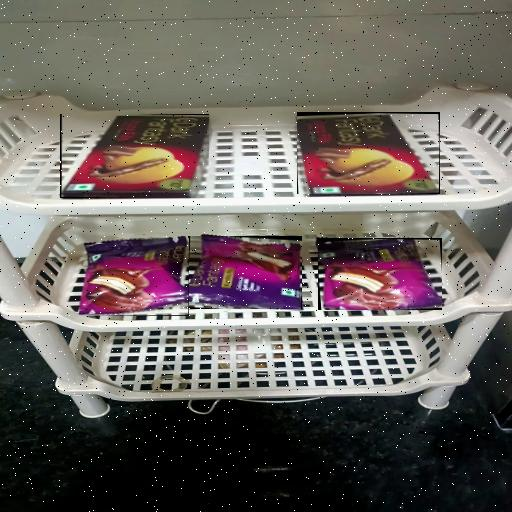Choco Fills: (60, 114, 209, 198), (297, 112, 440, 194)
Choco Pie: (318, 238, 442, 310), (79, 238, 189, 316), (188, 236, 302, 309)
